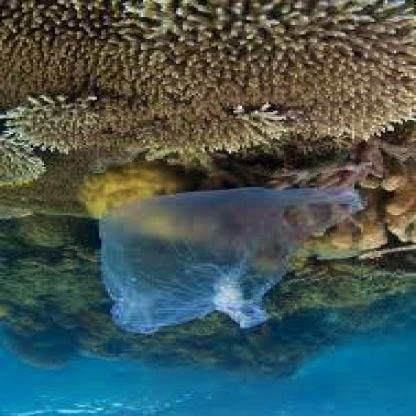pbag: (90, 178, 370, 341)
